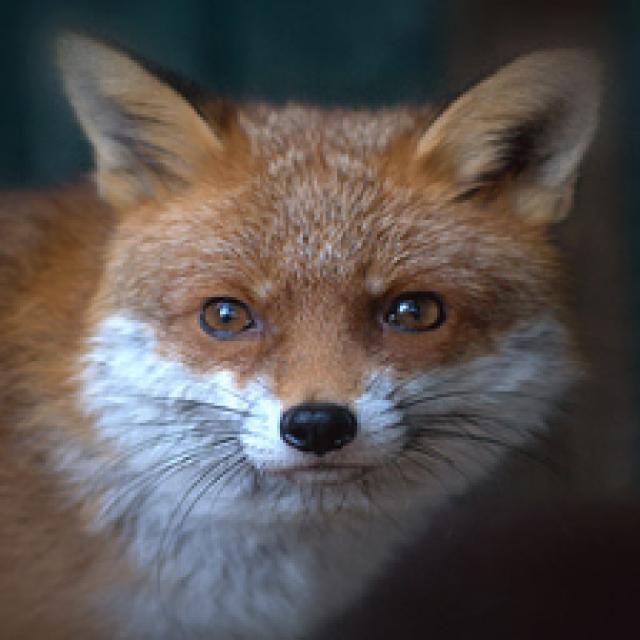fox: (5, 19, 640, 640)
